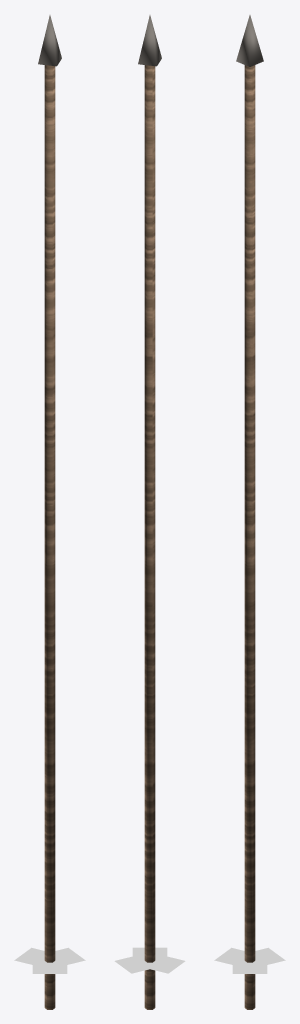
File: arrow.glb
3 views of the same model, side by side, from view 1: azimuth 30°, elevation 25°; view 2: azimuth 210°, elevation 25°; view 3: azimuth 270°, elevation 25° (orthographic).
Parts seen in each view (by area): view 1: arrow; view 2: arrow; view 3: arrow.
Part boxes in pixels (<box>): arrow: <box>14,15,85,1009</box>; arrow: <box>114,15,185,1009</box>; arrow: <box>214,15,285,1009</box>.
Size of the model in its own units: 0.0357 by 0.63 by 0.0412.
Materials: 2 (1 with a texture image).
